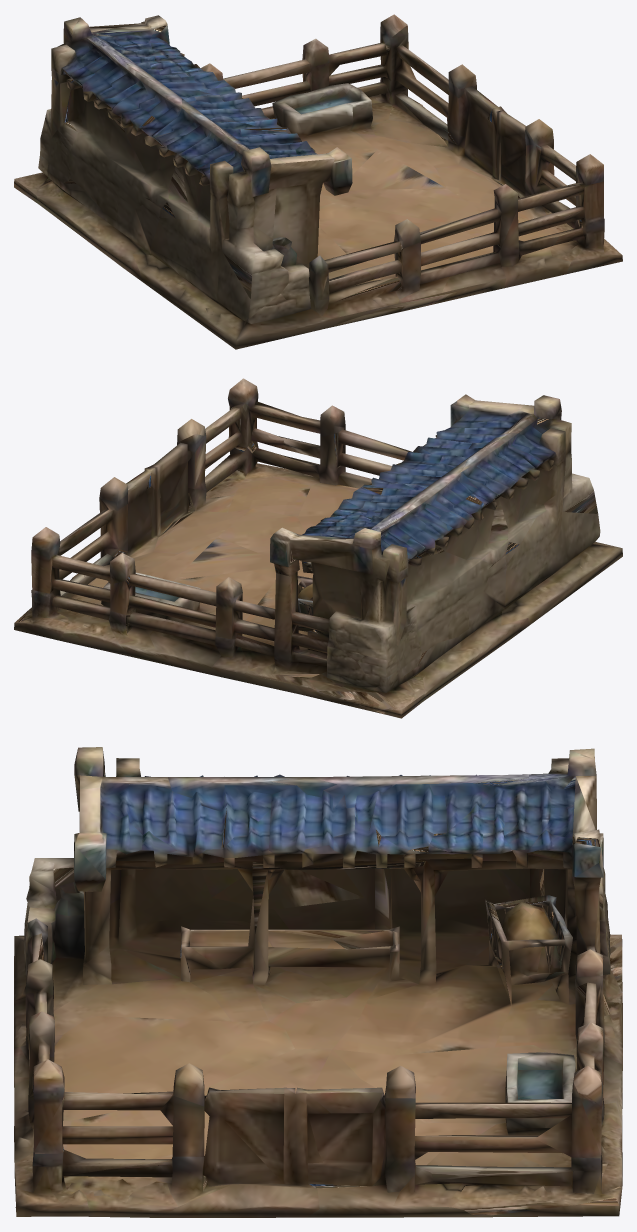
The model's file is livestock_pen_0.glb.
3 renders of one model, top to bottom at view 1: azimuth 30°, elevation 25°; view 2: azimuth 150°, elevation 25°; view 3: azimuth 270°, elevation 25°, orthographic. The views are drawn at different scales.
Parts seen in each view (by area): view 1: tripo_node_46631028-4598-4e92-9991-53dbe688d8db; view 2: tripo_node_46631028-4598-4e92-9991-53dbe688d8db; view 3: tripo_node_46631028-4598-4e92-9991-53dbe688d8db.
Boxes of the visible parts, bbox=[...] form: tripo_node_46631028-4598-4e92-9991-53dbe688d8db: bbox=[14, 14, 622, 349]; tripo_node_46631028-4598-4e92-9991-53dbe688d8db: bbox=[14, 378, 622, 718]; tripo_node_46631028-4598-4e92-9991-53dbe688d8db: bbox=[14, 747, 622, 1217].
Size of the model in its own units: 0.9791 by 0.4126 by 0.9608.
1 material, 1 textured.
